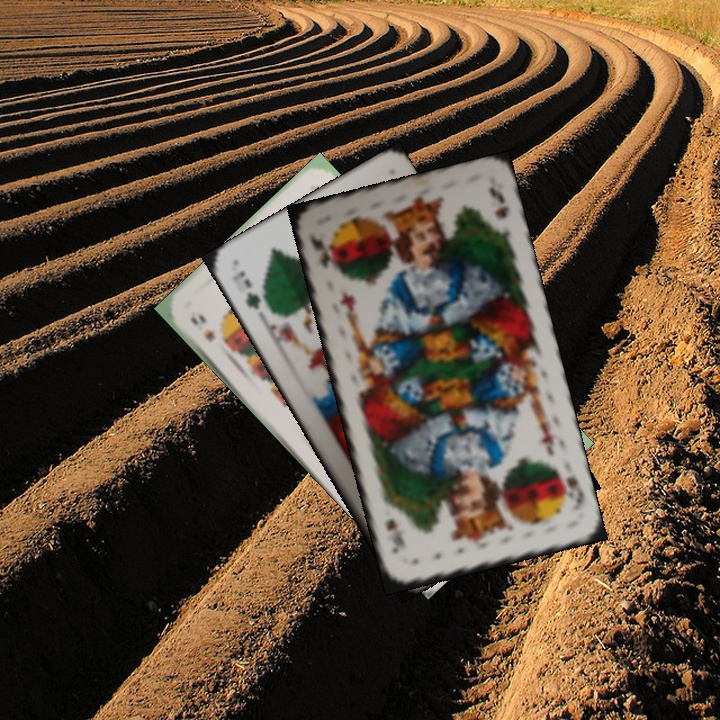GK: (227, 266, 263, 312)
S9: (186, 309, 218, 345)
SK: (552, 463, 587, 513), (305, 229, 336, 270)
